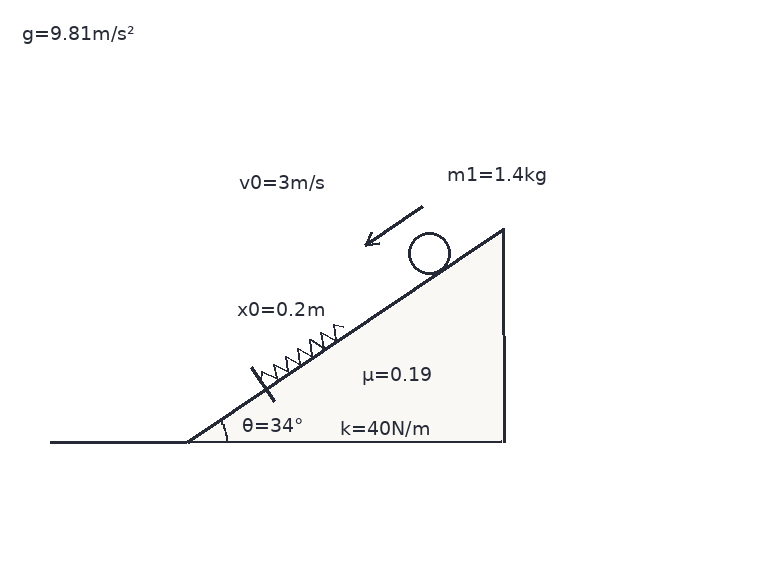ball: (406, 230, 452, 276)
ramp: (185, 227, 505, 444)
spring: (259, 322, 345, 383)
